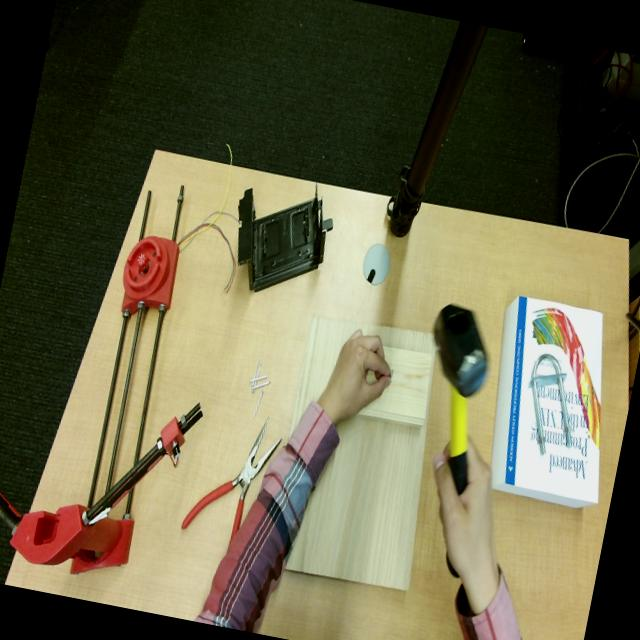hammer: (434, 304, 487, 494)
pliers: (182, 422, 279, 540)
